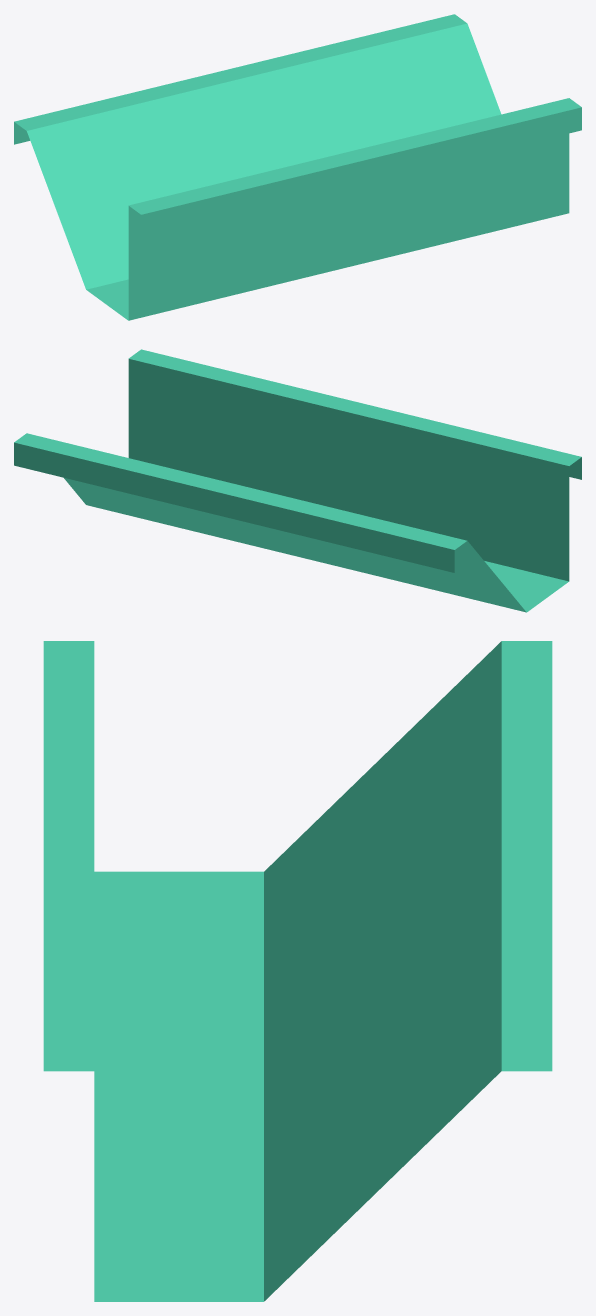
Rendered from Floor_2x1m_A.FBX.
The picture shows the model from 3 angles, top to bottom: view 1: azimuth 30°, elevation 25°; view 2: azimuth 150°, elevation 25°; view 3: azimuth 270°, elevation 25°; orthographic projection. The views are drawn at different scales.
Visible parts, largest first — view 1: Floor_2x1m_A; view 2: Floor_2x1m_A; view 3: Floor_2x1m_A.
Part boxes in pixels (left/top/right/bottom): Floor_2x1m_A: left=14, top=14, right=581, bottom=320; Floor_2x1m_A: left=14, top=349, right=581, bottom=612; Floor_2x1m_A: left=43, top=641, right=552, bottom=1301.
Size of the model in its own units: 200 by 50 by 100.
